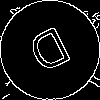D: (25, 25, 78, 82)
